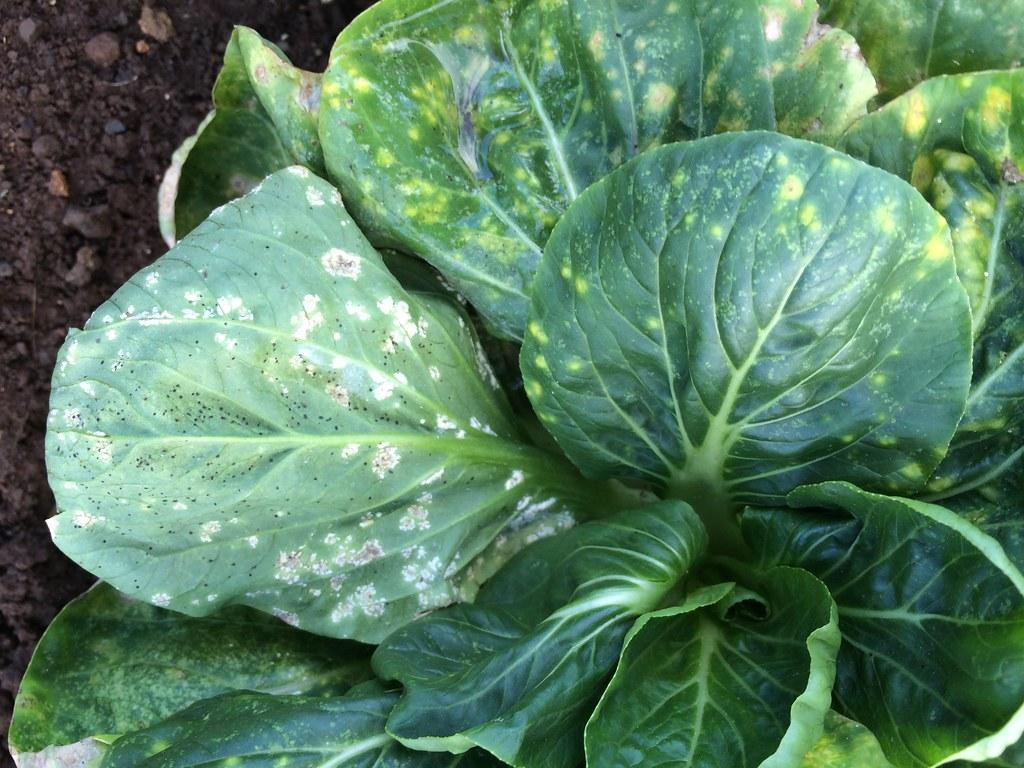Bok-Choy-Diseased: (43, 188, 536, 607), (517, 138, 983, 543), (339, 20, 830, 242)
